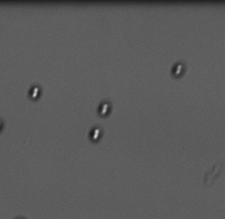Living Cell: (86, 125, 105, 142), (26, 83, 43, 101), (97, 100, 112, 118), (170, 61, 185, 79)
